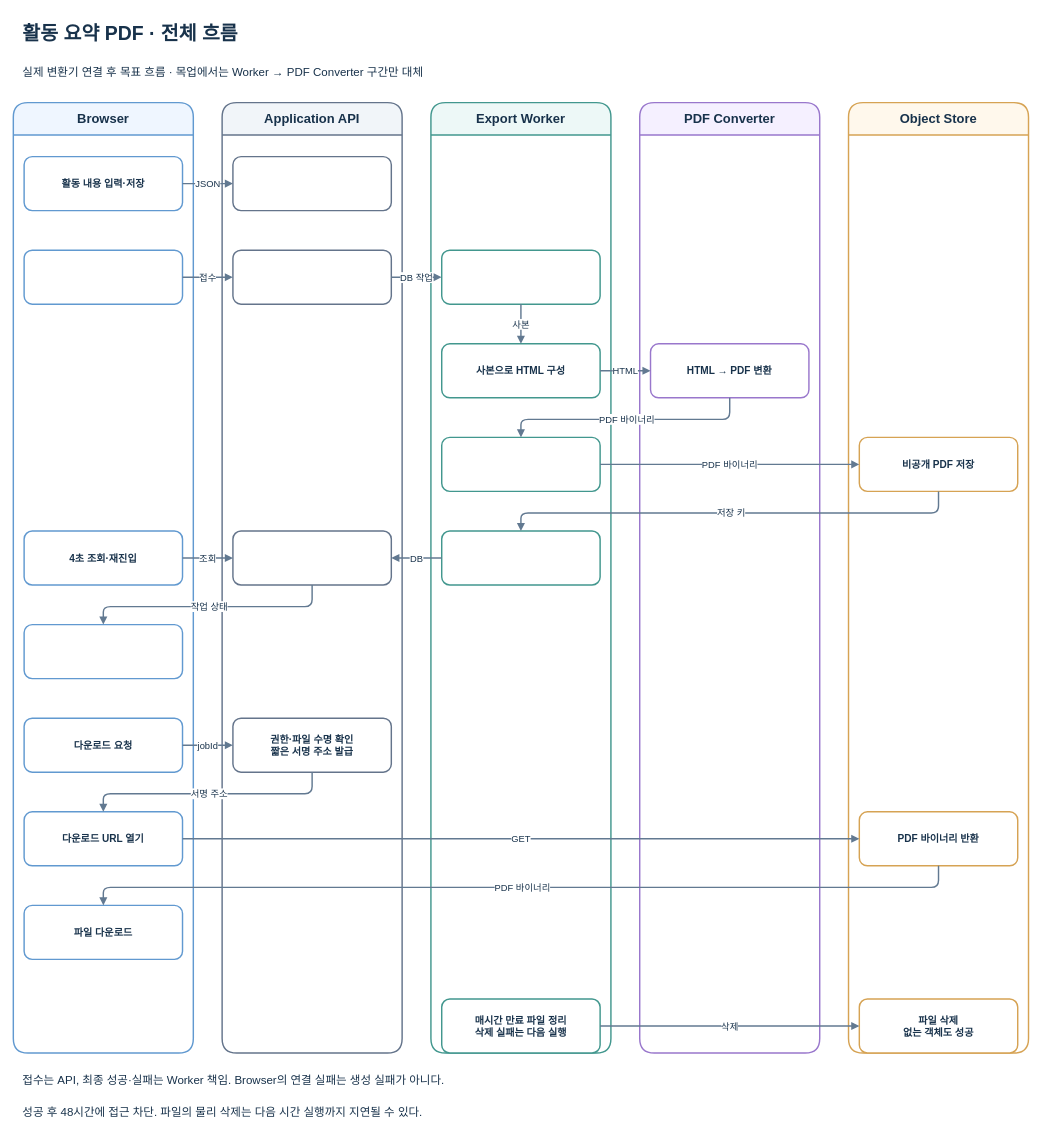
Image size: 1062x1137. Some labels were removed from this diagram. Here are the shapes that lost their labels. From the top down, the centre of each, then its label:
At (x=312, y=183): "권한·입력 검증 초안 DB 저장".
At (x=103, y=277): "PDF 만들기 Idempotency-Key".
At (x=312, y=277): "입력 사본·queued 기록".
At (x=520, y=277): "작업 가져오기 running 기록".
At (x=520, y=464): "PDF 바이너리 수신".
At (x=312, y=557): "권한 확인·DB 조회".
At (x=520, y=557): "성공·실패 DB 기록 저장 키·expires_at".
At (x=103, y=651): "완료·실패·만료 표시".
